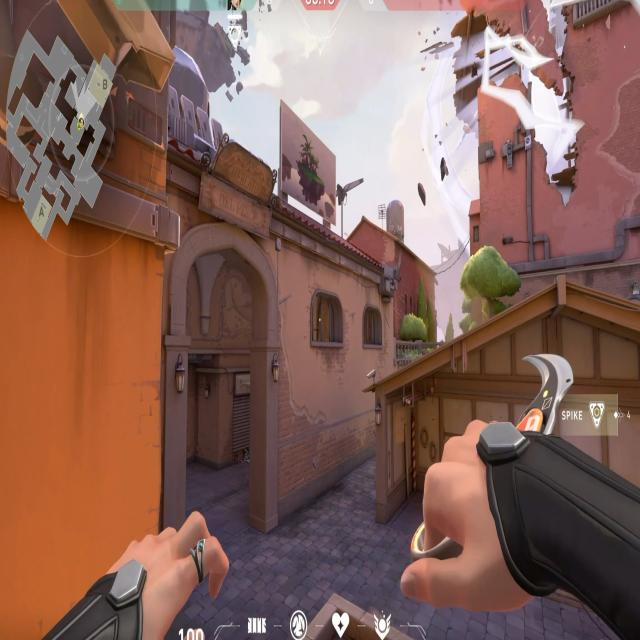B_Garage_Left: (374, 396, 441, 505)
Throwables: (305, 280, 349, 356), (359, 298, 386, 354)
